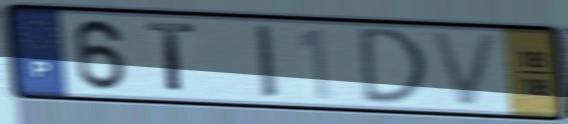1: (296, 27, 332, 102)
6: (70, 16, 129, 94)
D: (357, 25, 432, 107)
I: (252, 22, 283, 102)
T: (143, 19, 200, 96)
V: (426, 28, 505, 110)
